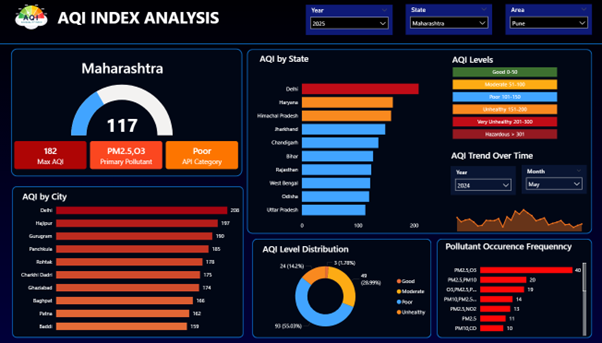

The dashboard page shown, as its layout file describes it:
{"tool":"powerbi","page":{"name":"AQI Index Analysis","canvas":[1400,800],"ordinal":0},"visuals":[{"type":"shape","box":[25.5,113.9,537.5,297.6],"z":0},{"type":"textbox","box":[129.1,10.5,388.7,60],"z":1000},{"type":"image","box":[0,10.5,145.6,60],"z":2000},{"type":"gauge","fields":{"Y":["Measures Table.AVG AQI"]},"box":[114.8,193.4,336.1,127.9],"z":3000},{"type":"slicer","fields":{"Values":["Calendar Table.Year"]},"box":[709.8,11.5,201.6,70.5],"z":4000},{"type":"slicer","fields":{"Values":["day_wise_aqi_data.state"]},"box":[942.4,10.7,201.1,71],"z":5000},{"type":"slicer","fields":{"Values":["day_wise_aqi_data.area"]},"box":[1174.3,10.7,201.1,71],"z":6000},{"type":"cardVisual","fields":{"Data":["Max(day_wise_aqi_data.aqi_value)","Measures Table.Primary Pollutant","Measures Table.API Category KPI"]},"box":[28.2,324.4,530.8,75.1],"z":7000},{"type":"cardVisual","fields":{"Data":["Measures Table.KPI Title"]},"box":[32.2,128.7,504,57.6],"z":8000},{"type":"shape","box":[573.8,114.8,801.6,429.5],"z":9000},{"type":"barChart","fields":{"Category":["day_wise_aqi_data.state"],"Y":["Measures Table.AVG AQI"]},"box":[585,170,457.5,373.8],"z":10000},{"type":"cardVisual","fields":{"Data":["Measures Table.Bar Chart Title"]},"box":[585,113.8,151.2,43.8],"z":11000},{"type":"barChart","fields":{"Category":["day_wise_aqi_data.AQI Category"],"Y":["Measures Table.Label"]},"box":[1047.5,144.3,252.5,185.2],"z":12000},{"type":"cardVisual","fields":{"Data":["Measures Table.AQI Level Title"]},"box":[1023,114.8,150.8,44.3],"z":13000},{"type":"areaChart","fields":{"Category":["Calendar Table.Date.Variation.Date Hierarchy.Day"],"Y":["Measures Table.AVG AQI"]},"box":[1047.5,454.1,319.7,90.2],"z":14000},{"type":"slicer","fields":{"Values":["Calendar Table.Date.Variation.Date Hierarchy.Year"]},"box":[1047.5,386.9,150.8,67.2],"z":15000},{"type":"slicer","fields":{"Values":["Calendar Table.Date.Variation.Date Hierarchy.Month"]},"box":[1211.5,385.2,150.8,67.2],"z":16000},{"type":"cardVisual","fields":{"Data":["Measures Table.Title for monthly chart"]},"box":[1029.5,339.3,227.9,44.3],"z":17000},{"type":"shape","box":[27.9,434.4,537.7,352.5],"z":18000},{"type":"barChart","fields":{"Y":["Measures Table.AVG AQI"],"Category":["day_wise_aqi_data.area"]},"box":[37.7,457.4,526.2,329.5],"z":19000},{"type":"cardVisual","fields":{"Data":["Measures Table.Title for City"]},"box":[13.1,434.4,180.3,44.3],"z":20000},{"type":"shape","box":[585.2,555.7,416.4,231.1],"z":21000},{"type":"donutChart","fields":{"Category":["day_wise_aqi_data.AQI Category"],"Y":["Measures Table.Count of Rows"]},"box":[585.2,593.4,416.4,193.4],"z":22000},{"type":"cardVisual","fields":{"Data":["Measures Table.Donut title"]},"box":[573.8,555.7,272.1,44.3],"z":23000},{"type":"shape","box":[1014.8,555.7,360.7,231.1],"z":24000},{"type":"barChart","fields":{"Y":["Measures Table.Count of Rows"],"Category":["day_wise_aqi_data.prominent_pollutants"]},"box":[1014.8,600,352.5,186.9],"z":25000},{"type":"cardVisual","fields":{"Data":["Measures Table.Pollutant title"]},"box":[1001.6,549.2,360.7,44.3],"z":26000},{"type":"shape","box":[0,82,1400,42.6],"z":27000}]}

Visuals, with their boxes in screenshot pixels (x1, y1, x2, y2), scaled from the page's 1400x800 canvas onto the 602x343 screenshot:
shape: box=[11, 49, 242, 176]
textbox: box=[56, 5, 223, 30]
image: box=[0, 5, 63, 30]
gauge - Measures Table.AVG AQI: box=[49, 83, 194, 138]
slicer - Calendar Table.Year: box=[305, 5, 392, 35]
slicer - day_wise_aqi_data.state: box=[405, 5, 492, 35]
slicer - day_wise_aqi_data.area: box=[505, 5, 591, 35]
cardVisual - Max(day_wise_aqi_data.aqi_value) x Measures Table.Primary Pollutant: box=[12, 139, 240, 171]
cardVisual - Measures Table.KPI Title: box=[14, 55, 231, 80]
shape: box=[247, 49, 591, 233]
barChart - day_wise_aqi_data.state x Measures Table.AVG AQI: box=[252, 73, 448, 233]
cardVisual - Measures Table.Bar Chart Title: box=[252, 49, 317, 68]
barChart - day_wise_aqi_data.AQI Category x Measures Table.Label: box=[450, 62, 559, 141]
cardVisual - Measures Table.AQI Level Title: box=[440, 49, 505, 68]
areaChart - Calendar Table.Date.Variation.Date Hierarchy.Day x Measures Table.AVG AQI: box=[450, 195, 588, 233]
slicer - Calendar Table.Date.Variation.Date Hierarchy.Year: box=[450, 166, 515, 195]
slicer - Calendar Table.Date.Variation.Date Hierarchy.Month: box=[521, 165, 586, 194]
cardVisual - Measures Table.Title for monthly chart: box=[443, 145, 541, 164]
shape: box=[12, 186, 243, 337]
barChart - Measures Table.AVG AQI x day_wise_aqi_data.area: box=[16, 196, 242, 337]
cardVisual - Measures Table.Title for City: box=[6, 186, 83, 205]
shape: box=[252, 238, 431, 337]
donutChart - day_wise_aqi_data.AQI Category x Measures Table.Count of Rows: box=[252, 254, 431, 337]
cardVisual - Measures Table.Donut title: box=[247, 238, 364, 257]
shape: box=[436, 238, 591, 337]
barChart - Measures Table.Count of Rows x day_wise_aqi_data.prominent_pollutants: box=[436, 257, 588, 337]
cardVisual - Measures Table.Pollutant title: box=[431, 235, 586, 254]
shape: box=[0, 35, 601, 53]
